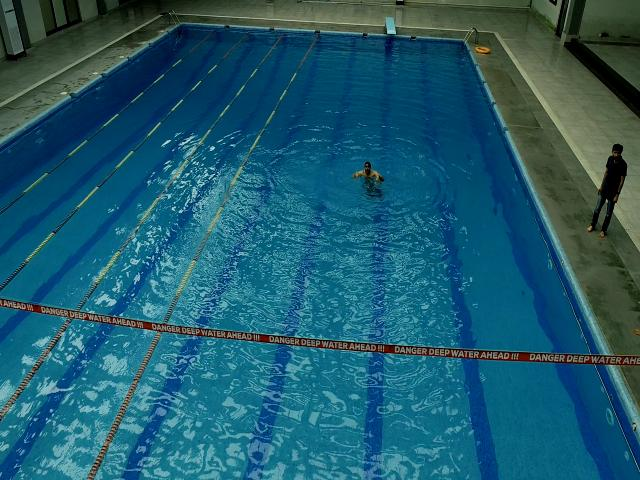drowning: (351, 161, 385, 199)
out of water: (586, 144, 628, 239)
